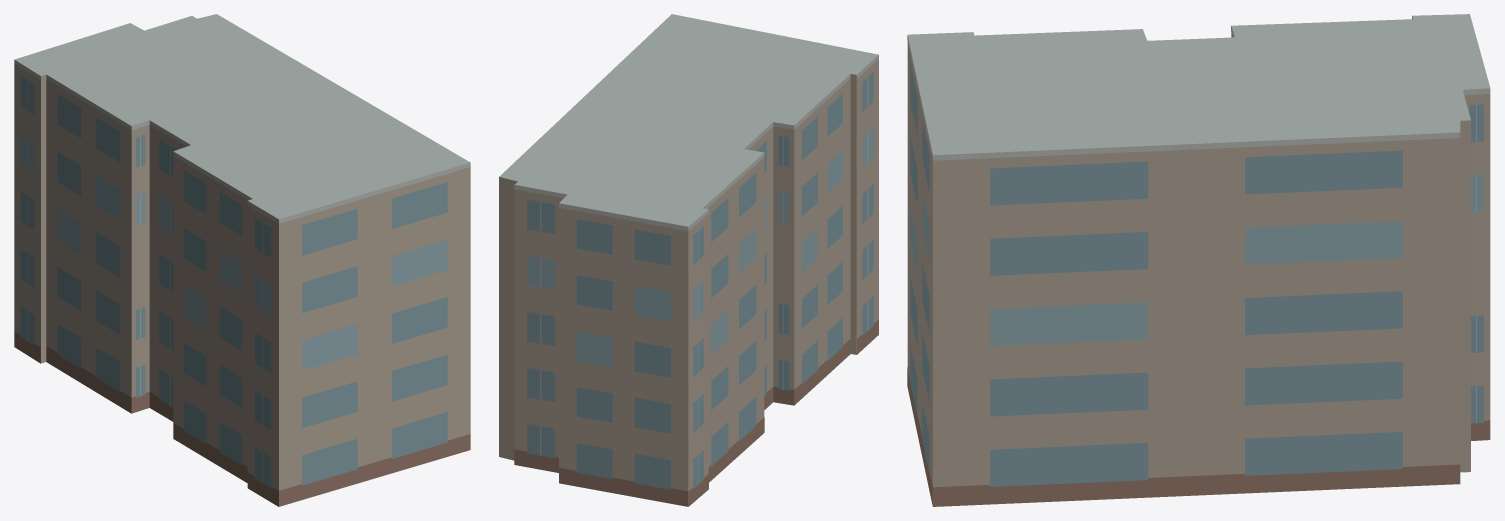
The model's file is survey-upis-32655161.glb.
3 renders of one model, left to right at view 1: azimuth 30°, elevation 25°; view 2: azimuth 150°, elevation 25°; view 3: azimuth 270°, elevation 25°, orthographic. The views are drawn at different scales.
Visible parts, largest first — view 1: survey-upis-32655161.tmp; view 2: survey-upis-32655161.tmp; view 3: survey-upis-32655161.tmp.
Part boxes in pixels (bbox=[...]): survey-upis-32655161.tmp: bbox=[14, 14, 470, 506]; survey-upis-32655161.tmp: bbox=[499, 14, 878, 506]; survey-upis-32655161.tmp: bbox=[907, 14, 1490, 506].
Size of the model in its own units: 13.36 by 15.5 by 23.3.
